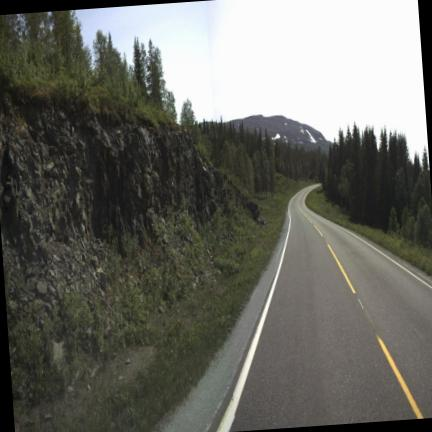Road: (196, 188, 431, 431)
